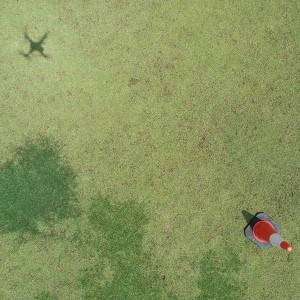traffic cone: (244, 211, 291, 251)
